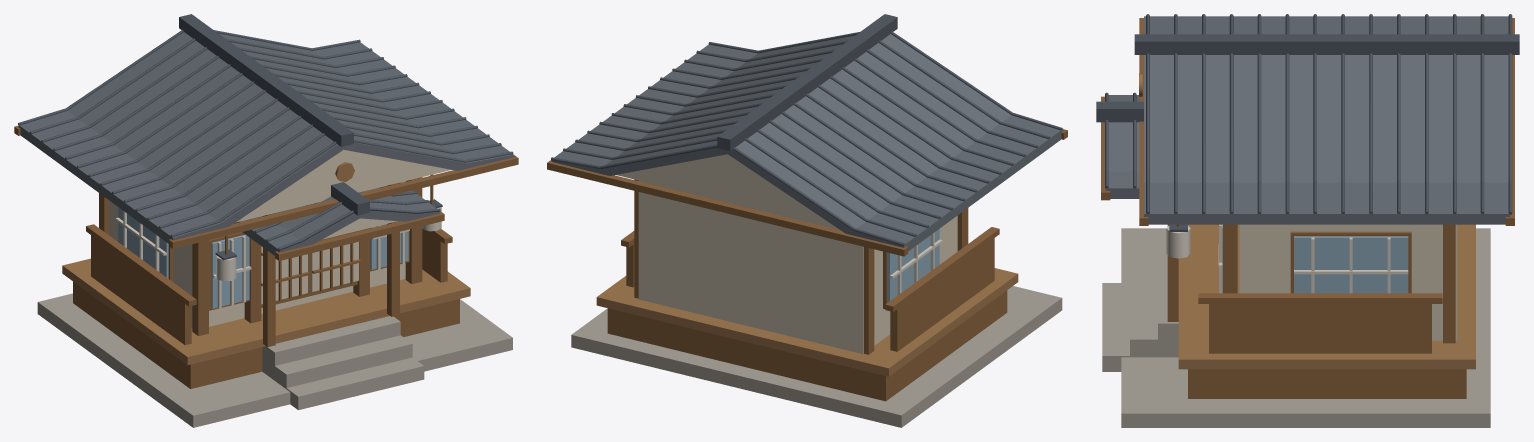
File: komachi-temple.glb
3 views of the same model, side by side, from view 1: azimuth 30°, elevation 25°; view 2: azimuth 150°, elevation 25°; view 3: azimuth 270°, elevation 25° (orthographic). The views are drawn at different scales.
Visible parts, largest first — view 1: Temple_Hall, Temple_Entrance; view 2: Temple_Hall; view 3: Temple_Hall, Temple_Entrance.
Boxes of the visible parts, x1,y1,x2,y2 form: Temple_Hall: [14, 14, 518, 427]; Temple_Entrance: [215, 162, 444, 346]; Temple_Hall: [547, 14, 1067, 427]; Temple_Hall: [1102, 14, 1519, 427]; Temple_Entrance: [1096, 73, 1190, 321].
Bounding box in the file's own units: 1.78 × 1.24 × 1.6.
